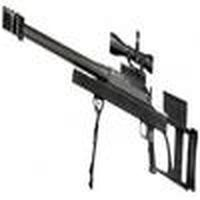gun: (1, 4, 196, 192)
